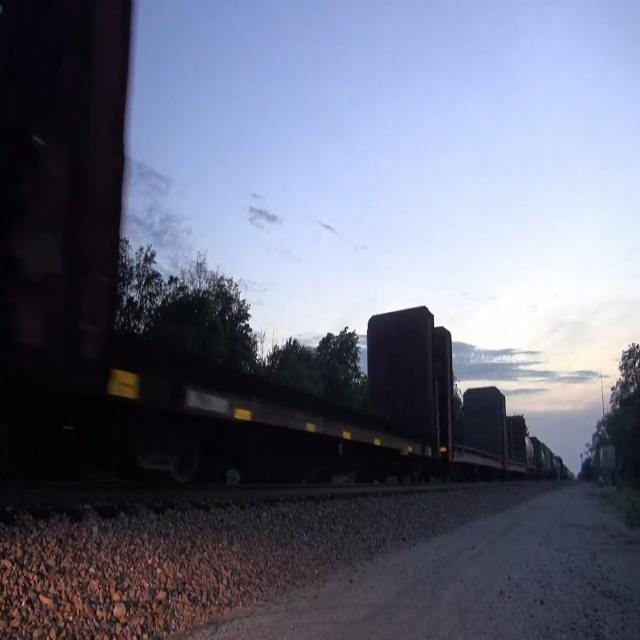flatcar_bulkhead: (42, 0, 444, 497), (436, 316, 506, 481)
